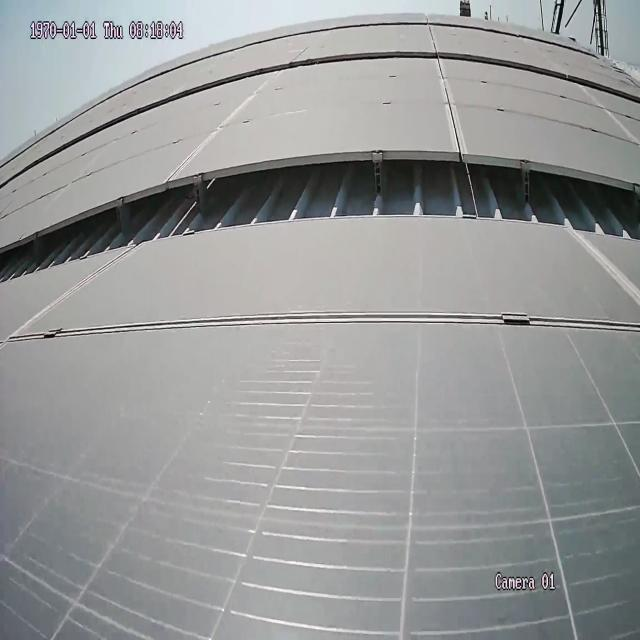interior panel: (8, 310, 636, 345), (170, 79, 267, 168), (567, 235, 640, 301), (433, 58, 469, 149)
outher panel: (3, 151, 640, 281)
